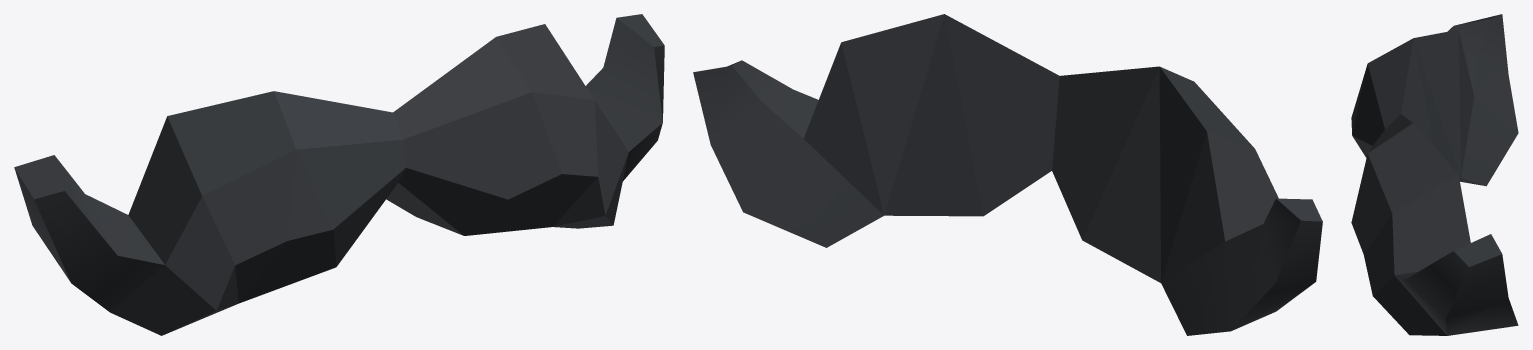
The model's file is SM_Chr_Attach_Beard_05.fbx.
3 renders of one model, left to right at view 1: azimuth 30°, elevation 25°; view 2: azimuth 150°, elevation 25°; view 3: azimuth 270°, elevation 25°, orthographic. The views are drawn at different scales.
Parts seen in each view (by area): view 1: SM_Chr_Attach_Beard_05; view 2: SM_Chr_Attach_Beard_05; view 3: SM_Chr_Attach_Beard_05.
Boxes of the visible parts, bbox=[...] form: SM_Chr_Attach_Beard_05: bbox=[14, 14, 664, 335]; SM_Chr_Attach_Beard_05: bbox=[693, 14, 1322, 335]; SM_Chr_Attach_Beard_05: bbox=[1351, 14, 1518, 335].
Size of the model in its own units: 20.35 by 6.96 by 5.97.
